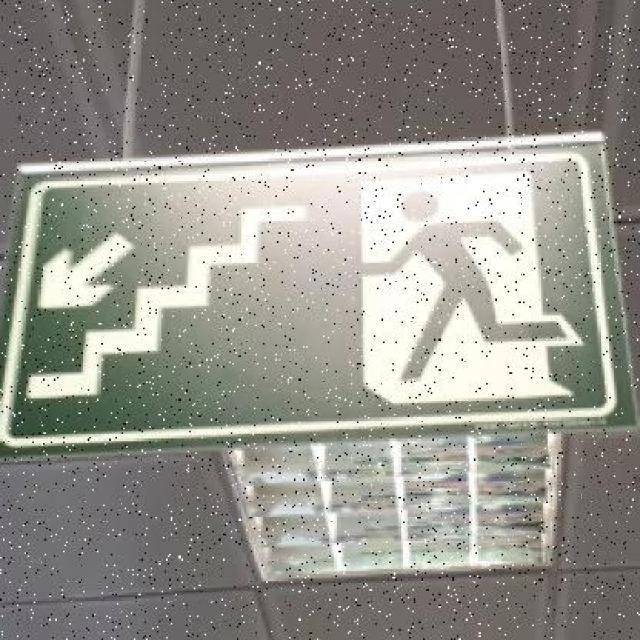exit_sign: (0, 146, 638, 432)
